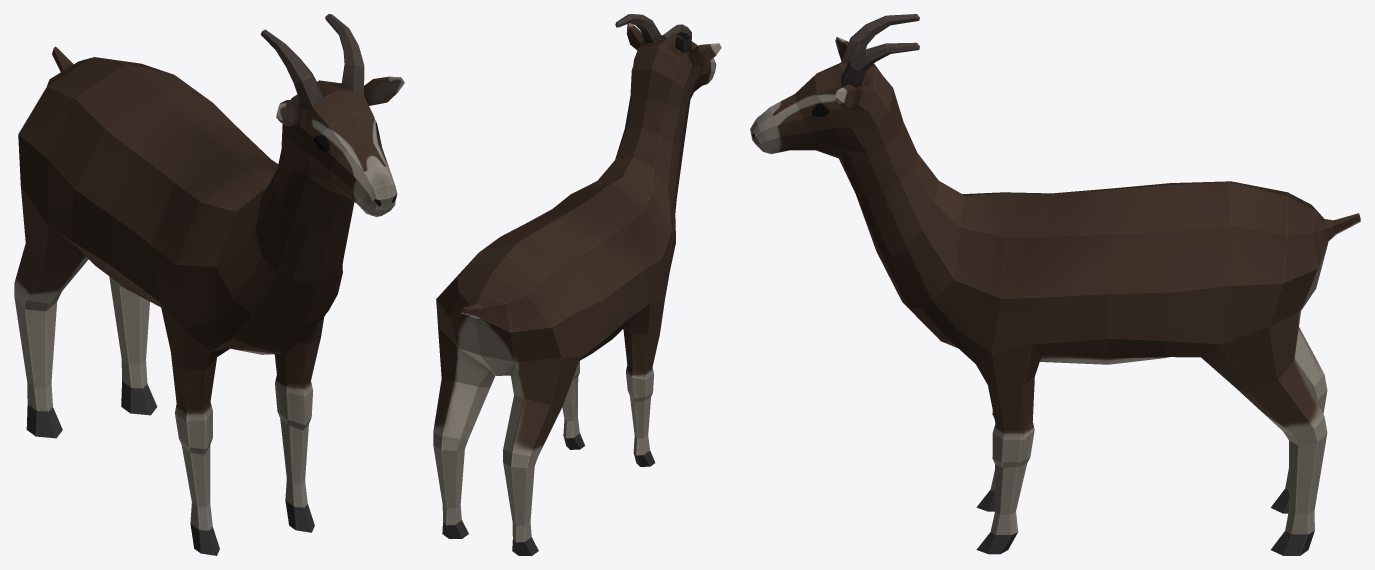
File: Goat_Alpine.obj
The picture shows the model from 3 angles, left to right: view 1: azimuth 30°, elevation 25°; view 2: azimuth 150°, elevation 25°; view 3: azimuth 270°, elevation 25°; orthographic projection. The views are drawn at different scales.
Visible parts, largest first — view 1: Goat_mesh; view 2: Goat_mesh; view 3: Goat_mesh.
Boxes of the visible parts, x1,y1,x2,y2 form: Goat_mesh: (14, 14, 404, 555); Goat_mesh: (433, 14, 721, 555); Goat_mesh: (750, 14, 1360, 555).
Bounding box in the file's own units: 2.26 × 6.6 × 7.31.
Materials: 1 (1 with a texture image).
